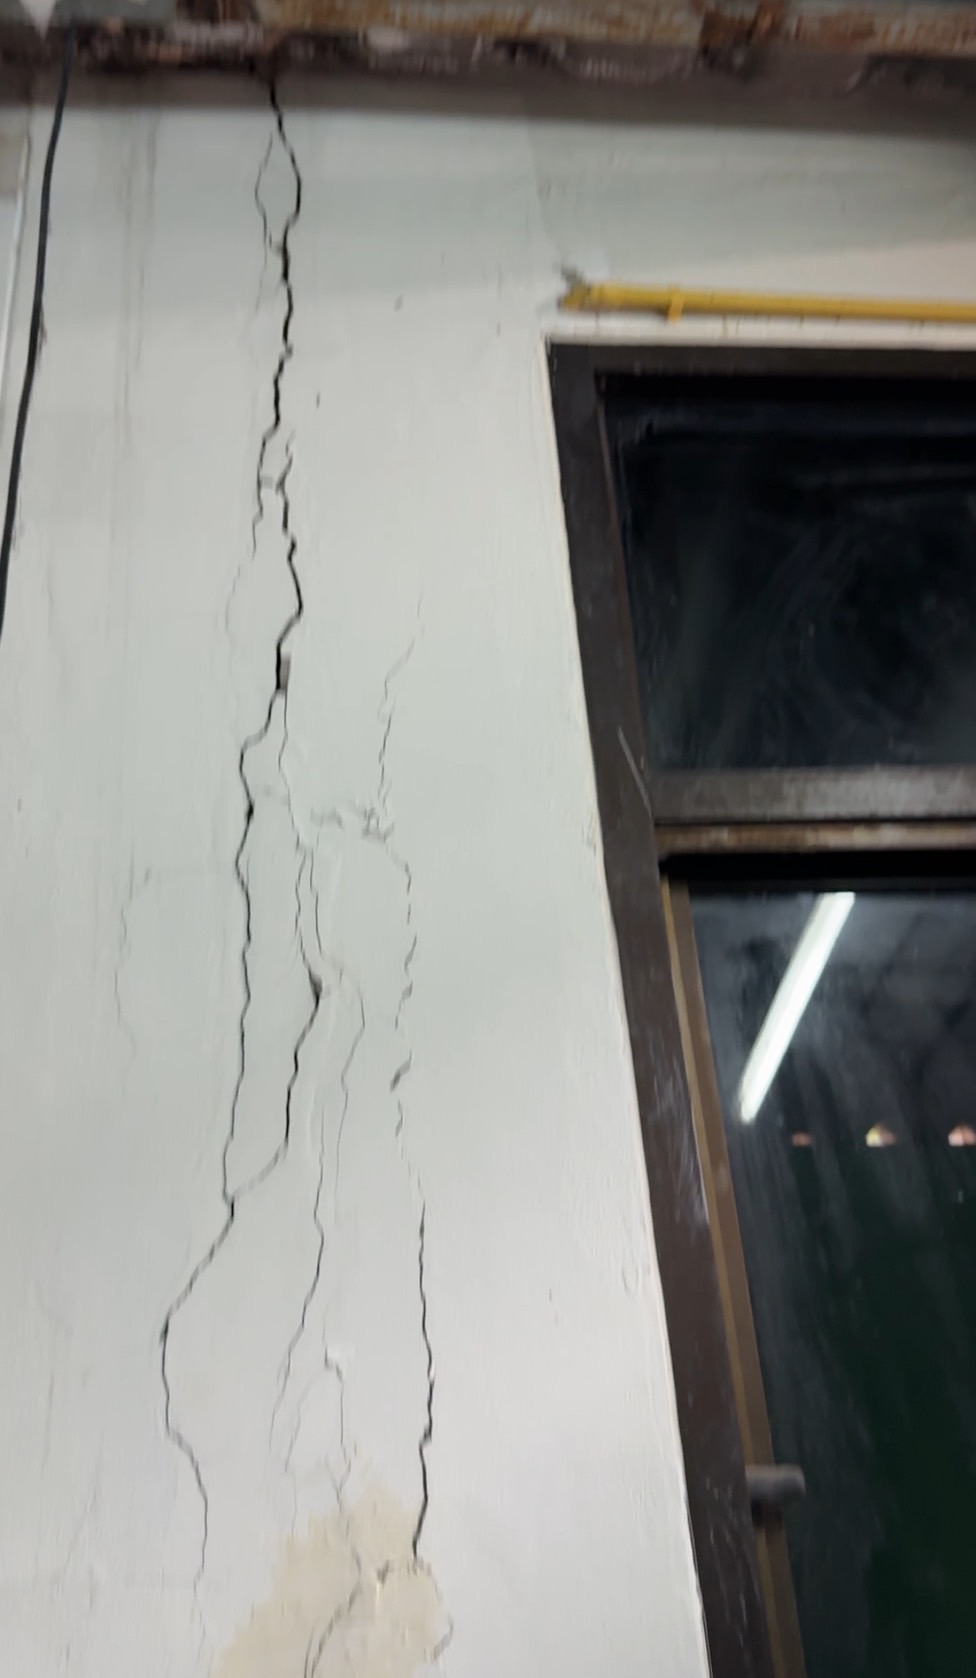Low: (76, 57, 602, 1678)
